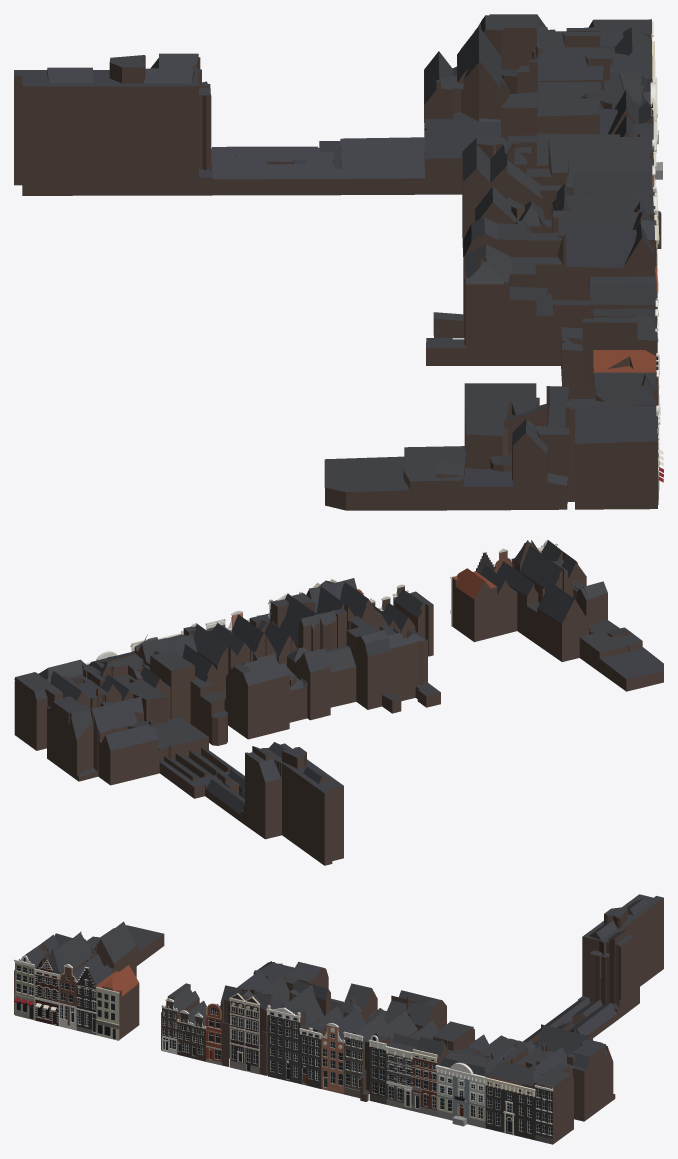
Rendered from herengracht-50-90.glb.
3 renders of one model, top to bottom at view 1: azimuth 30°, elevation 25°; view 2: azimuth 150°, elevation 25°; view 3: azimuth 270°, elevation 25°, orthographic. The views are drawn at different scales.
Parts seen in each view (by area): view 1: herengracht-50-90; view 2: herengracht-50-90; view 3: herengracht-50-90.
Boxes of the visible parts, <box> form: herengracht-50-90: <box>14,14,663,510</box>; herengracht-50-90: <box>14,540,663,865</box>; herengracht-50-90: <box>14,894,663,1144</box>.
Bounding box in the file's own units: 123 × 22.5 × 162.
